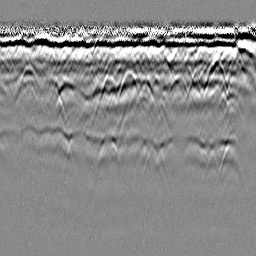cavity: (117, 68, 138, 102)
